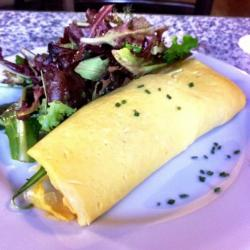omelette: (39, 62, 241, 216)
salad: (8, 19, 170, 121)
